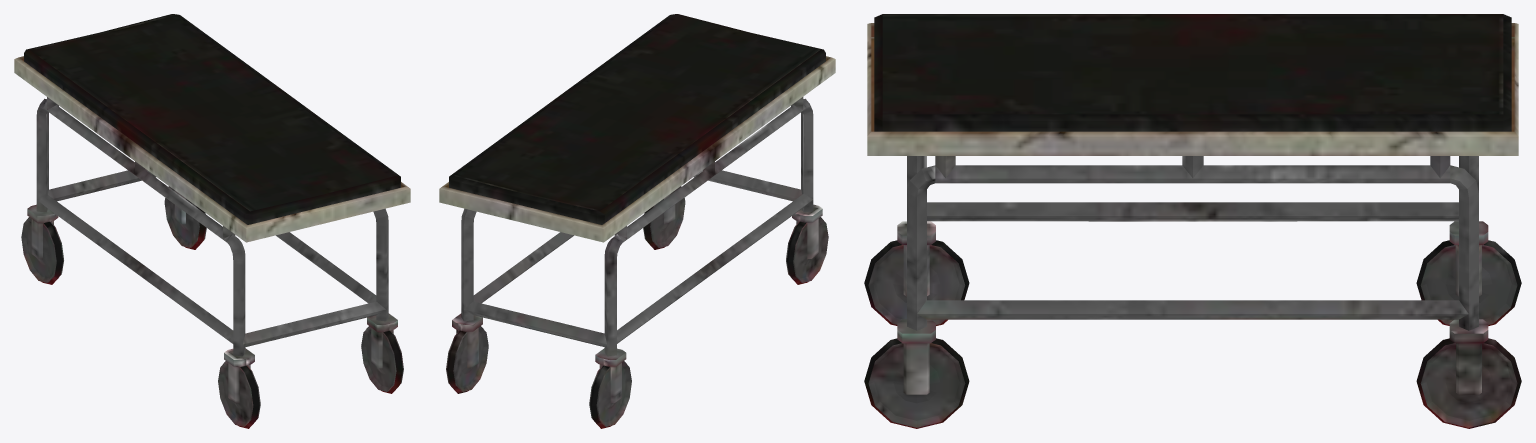
Rendered from gurney.glb.
3 renders of one model, left to right at view 1: azimuth 30°, elevation 25°; view 2: azimuth 150°, elevation 25°; view 3: azimuth 270°, elevation 25°, orthographic. The views are drawn at different scales.
Visible parts, largest first — view 1: Mattress_Gurney_0; view 2: Mattress_Gurney_0; view 3: Mattress_Gurney_0.
Boxes of the visible parts, box(x1,y1,x2,y2) form: Mattress_Gurney_0: box(14, 14, 410, 428); Mattress_Gurney_0: box(439, 14, 835, 428); Mattress_Gurney_0: box(864, 14, 1521, 428).
Size of the model in its own units: 0.759 by 0.9897 by 1.87.
Materials: 1 (1 with a texture image).
